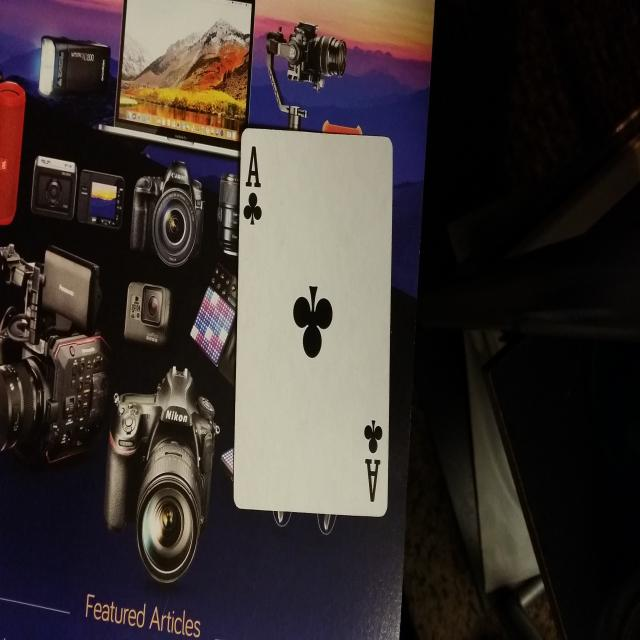Ac: (358, 410, 387, 510), (242, 140, 265, 227)
